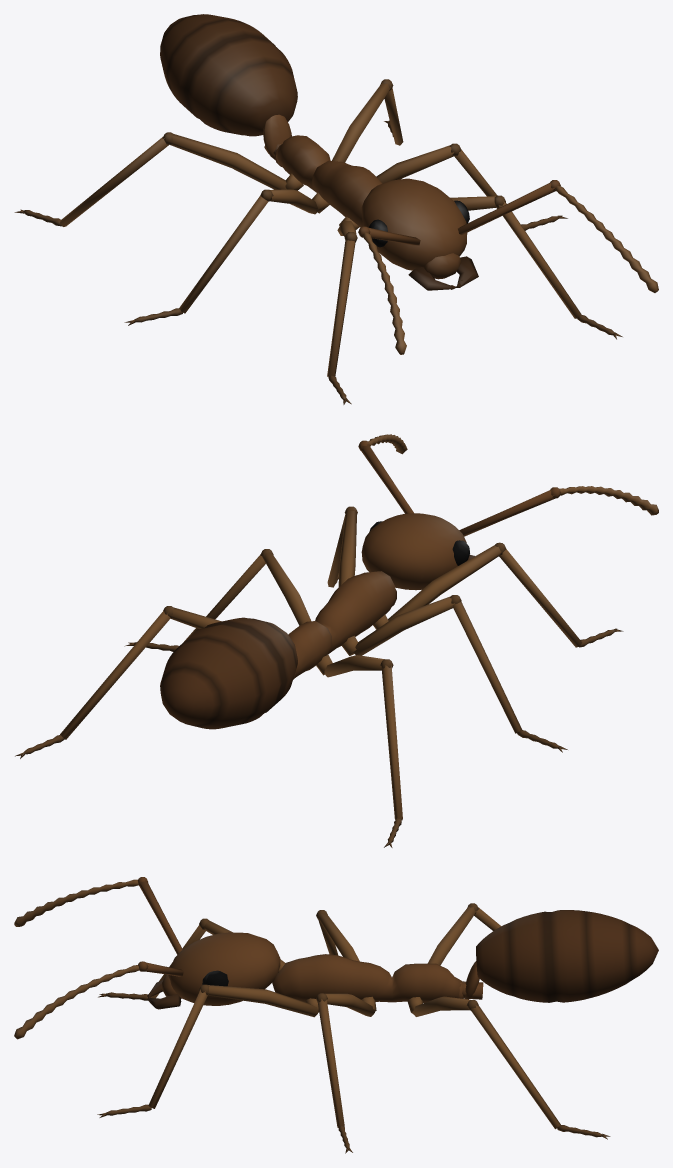
File: ArgentineAnt.fbx
3 views of the same model, one above another, from view 1: azimuth 30°, elevation 25°; view 2: azimuth 150°, elevation 25°; view 3: azimuth 270°, elevation 25° (orthographic). The views are drawn at different scales.
Parts seen in each view (by area): view 1: ArgentineAnt; view 2: ArgentineAnt; view 3: ArgentineAnt.
Boxes of the visible parts, x1,y1,x2,y2 form: ArgentineAnt: (14, 14, 658, 404); ArgentineAnt: (15, 434, 658, 847); ArgentineAnt: (14, 877, 658, 1153).
Bounding box in the file's own units: 0.9636 × 0.3238 × 1.34.
